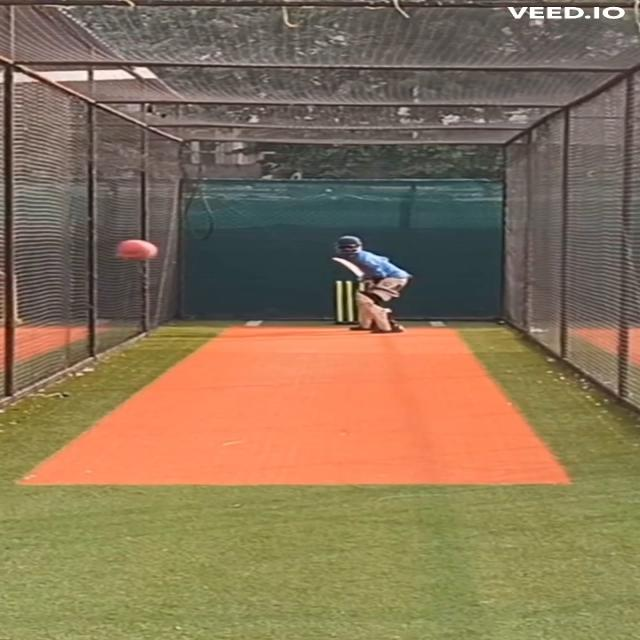ball: (109, 236, 162, 266)
stump: (331, 279, 366, 326)
